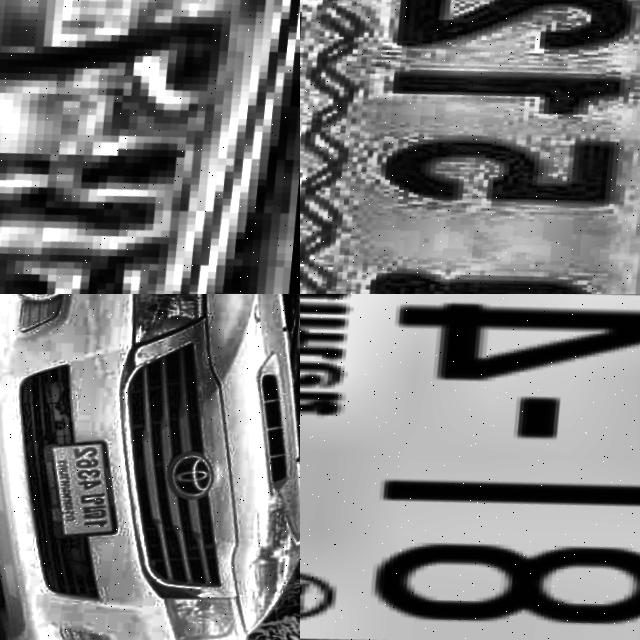license-plate: (300, 294, 640, 640), (300, 0, 640, 294), (0, 0, 300, 294), (26, 434, 127, 553)
